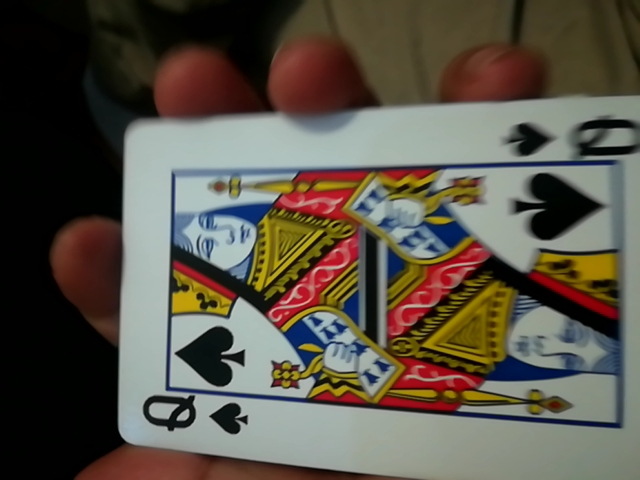ht q: (102, 92, 635, 480)
